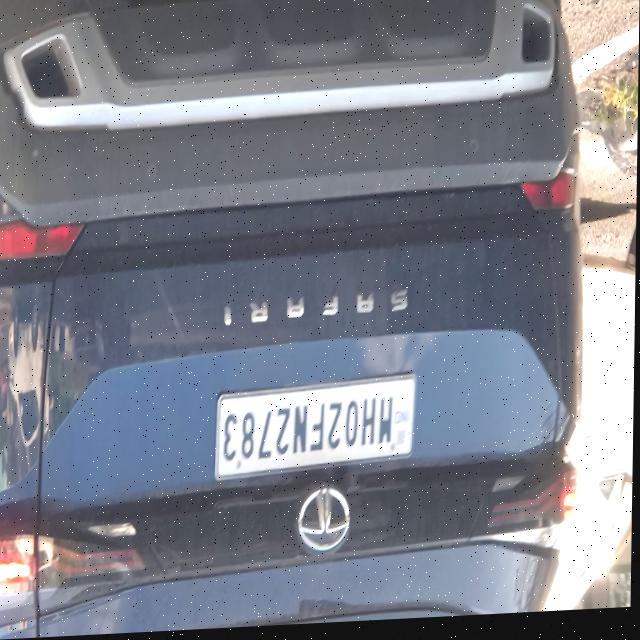plate: (215, 374, 419, 487)
